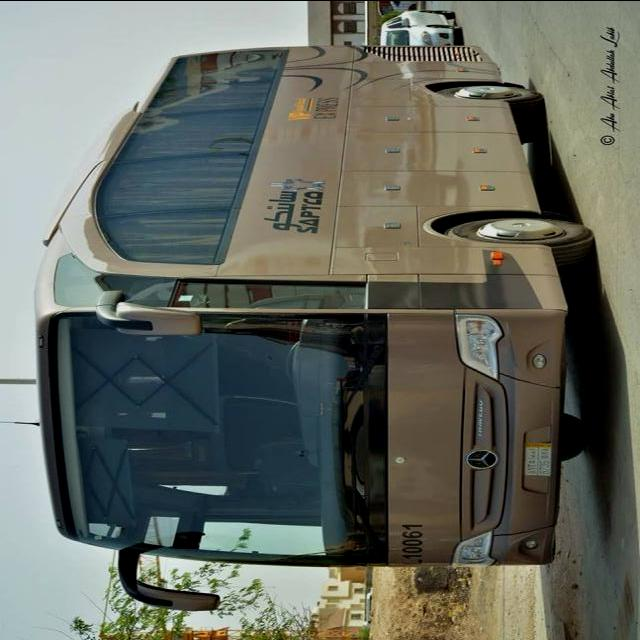bus: (36, 44, 598, 612)
